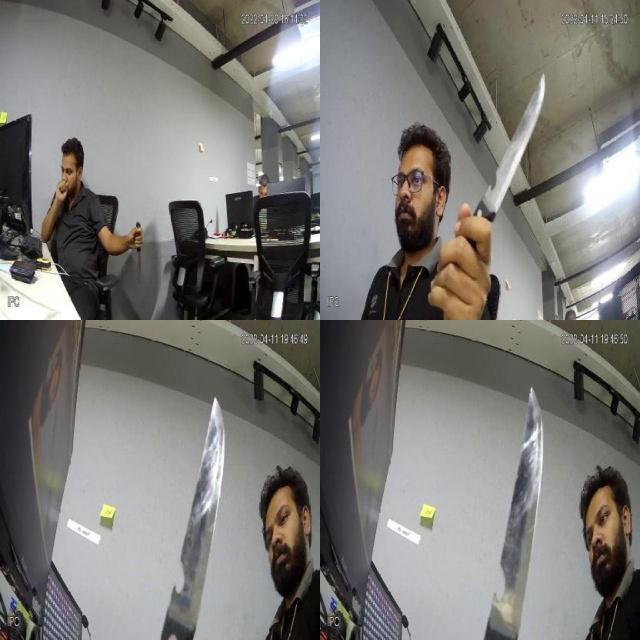-: (486, 389, 549, 631), (165, 390, 226, 634), (475, 72, 546, 215), (135, 229, 146, 279)
